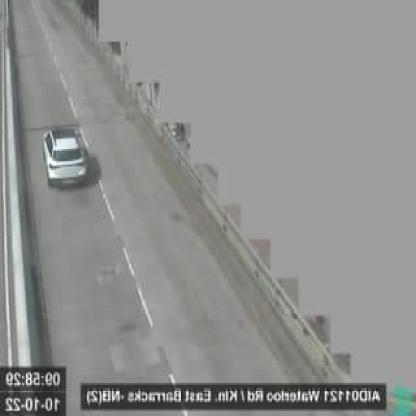Car: (42, 123, 89, 190)
